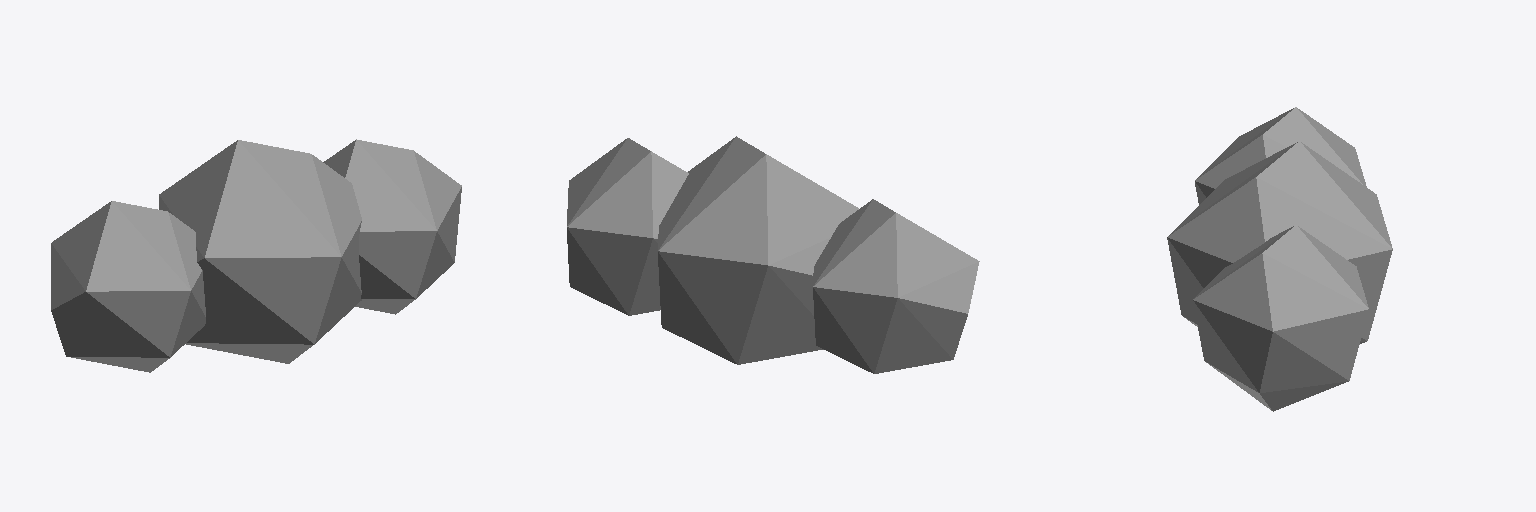
The model's file is cloud.obj.
3 renders of one model, left to right at view 1: azimuth 30°, elevation 25°; view 2: azimuth 150°, elevation 25°; view 3: azimuth 270°, elevation 25°, orthographic.
Parts seen in each view (by area): view 1: Icosphere.001_Icosphere.003; view 2: Icosphere.001_Icosphere.003; view 3: Icosphere.001_Icosphere.003.
Part boxes in pixels (left/top/right/bottom): Icosphere.001_Icosphere.003: left=51, top=139, right=461, bottom=372; Icosphere.001_Icosphere.003: left=567, top=136, right=979, bottom=373; Icosphere.001_Icosphere.003: left=1167, top=107, right=1392, bottom=411.
Size of the model in its own units: 4.05 by 2.12 by 1.96.